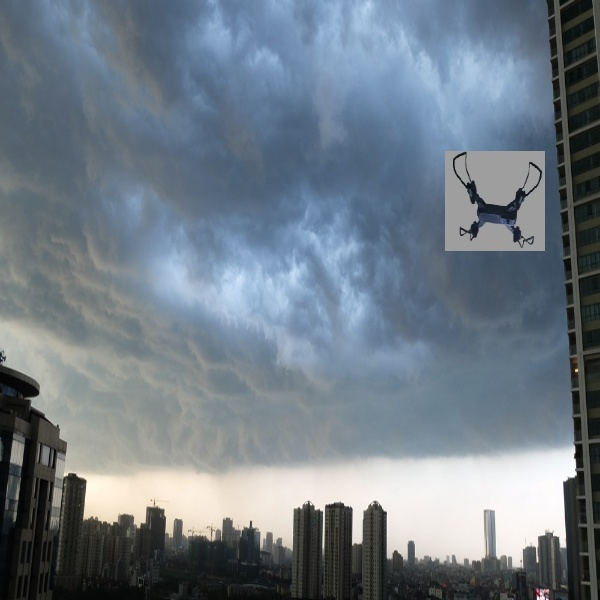drone: (444, 151, 545, 249)
